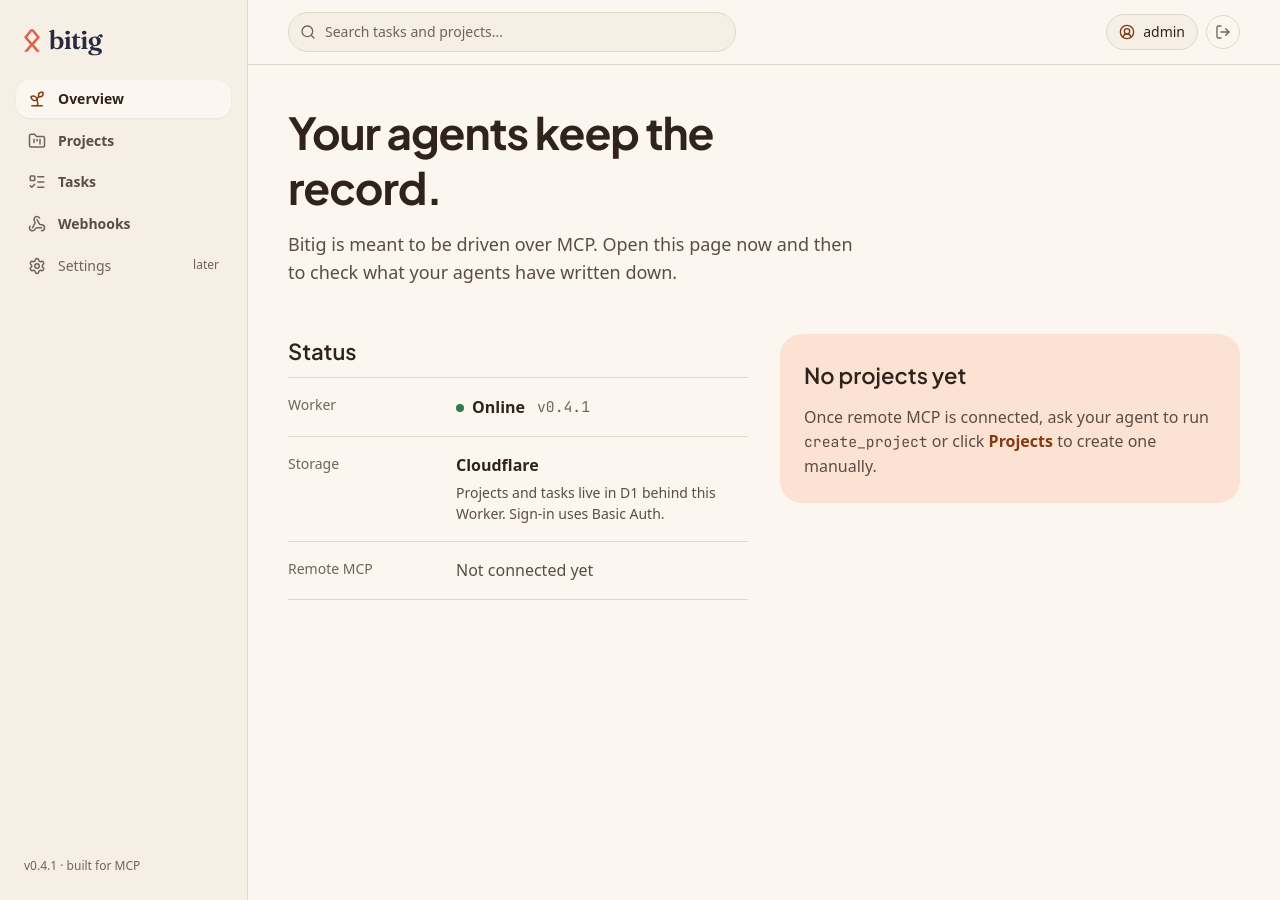
Test: Dashboard Phase 4 Integration › sends the visitor to sign in when the API rejects the session
Click the link "Projects" at (71, 140), box [28,131,114,150]
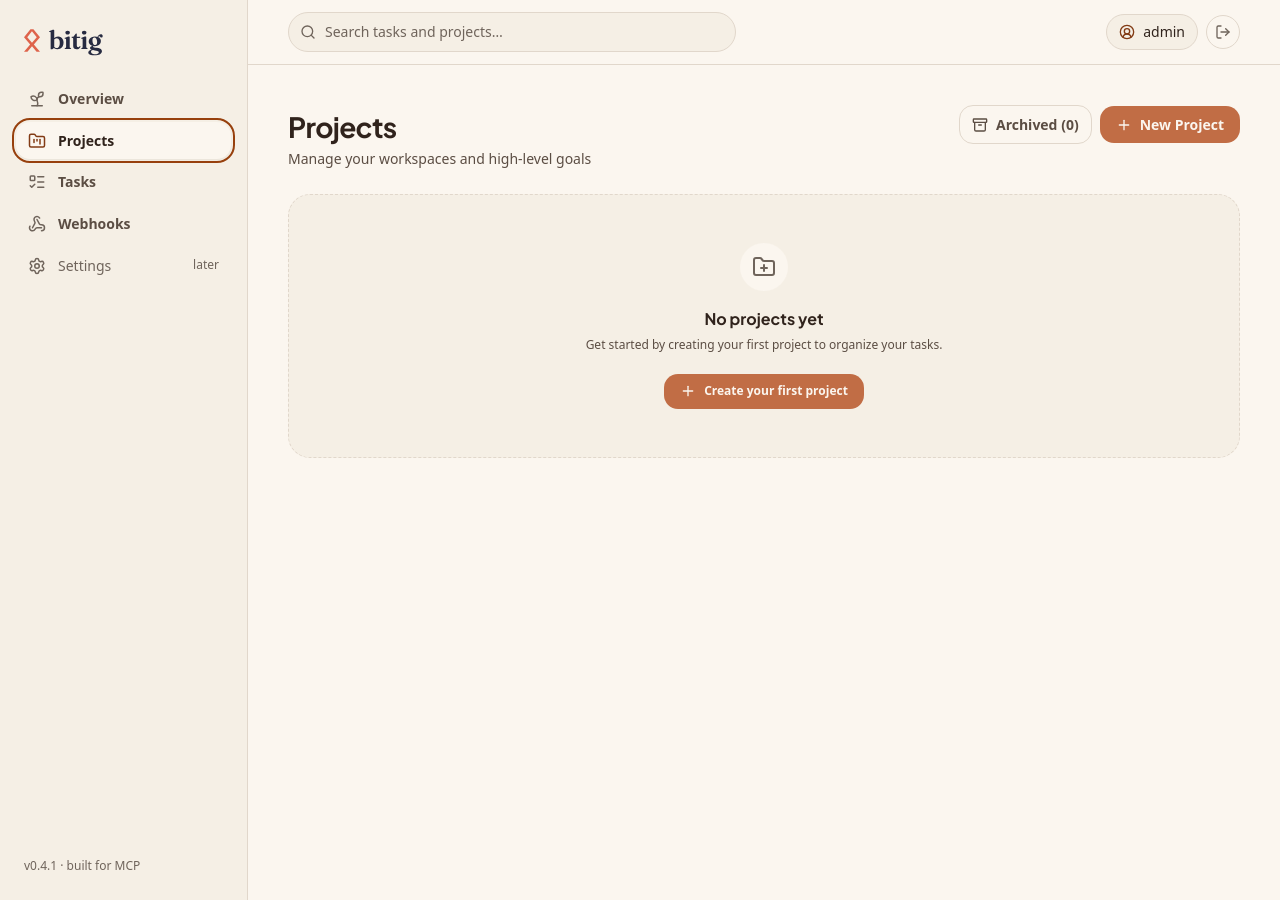
Click the button "New Project" at (1170, 125), box [1100,106,1240,143]
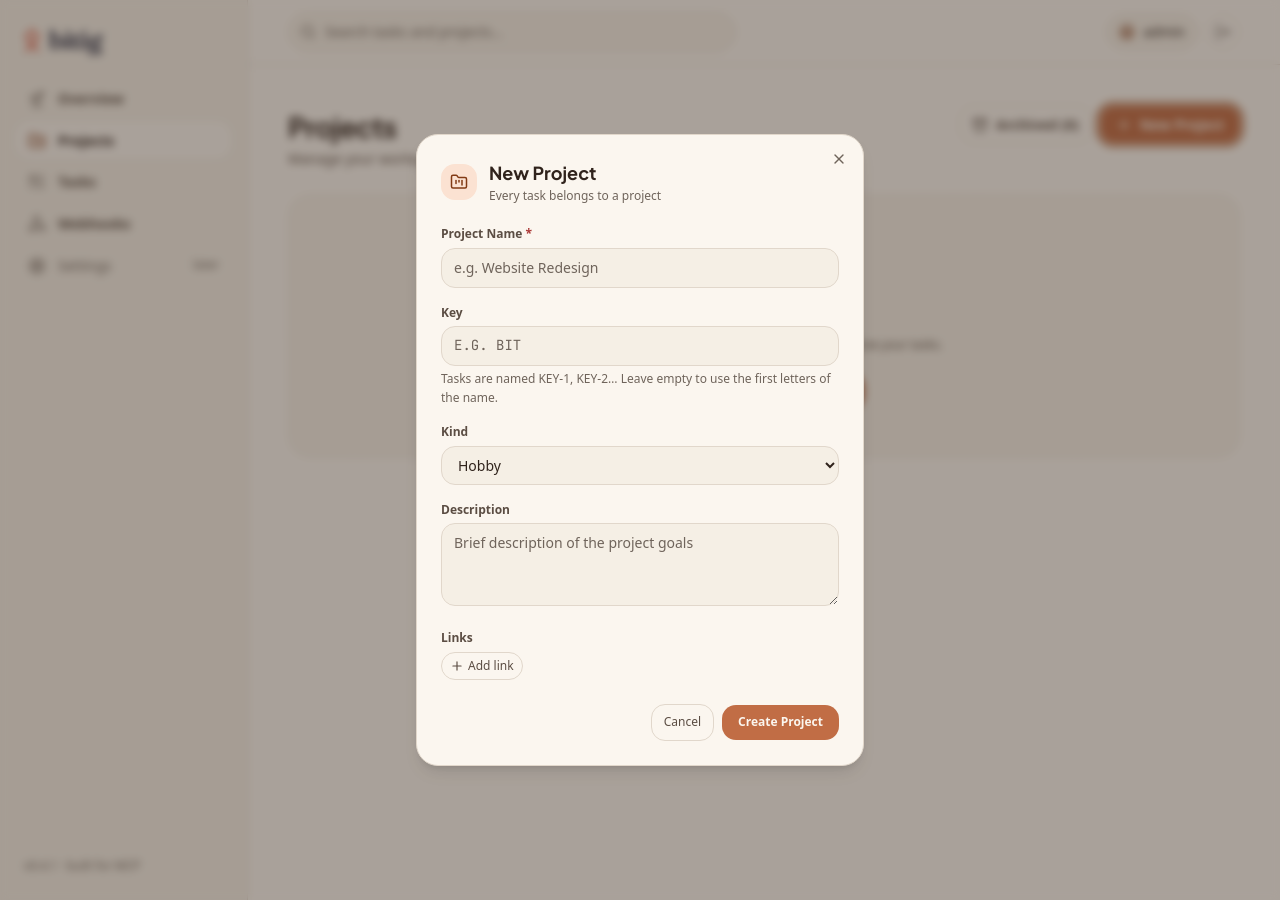
Type "Late project" into the field labelled "Project Name *" at (640, 268), box [441,248,839,288]
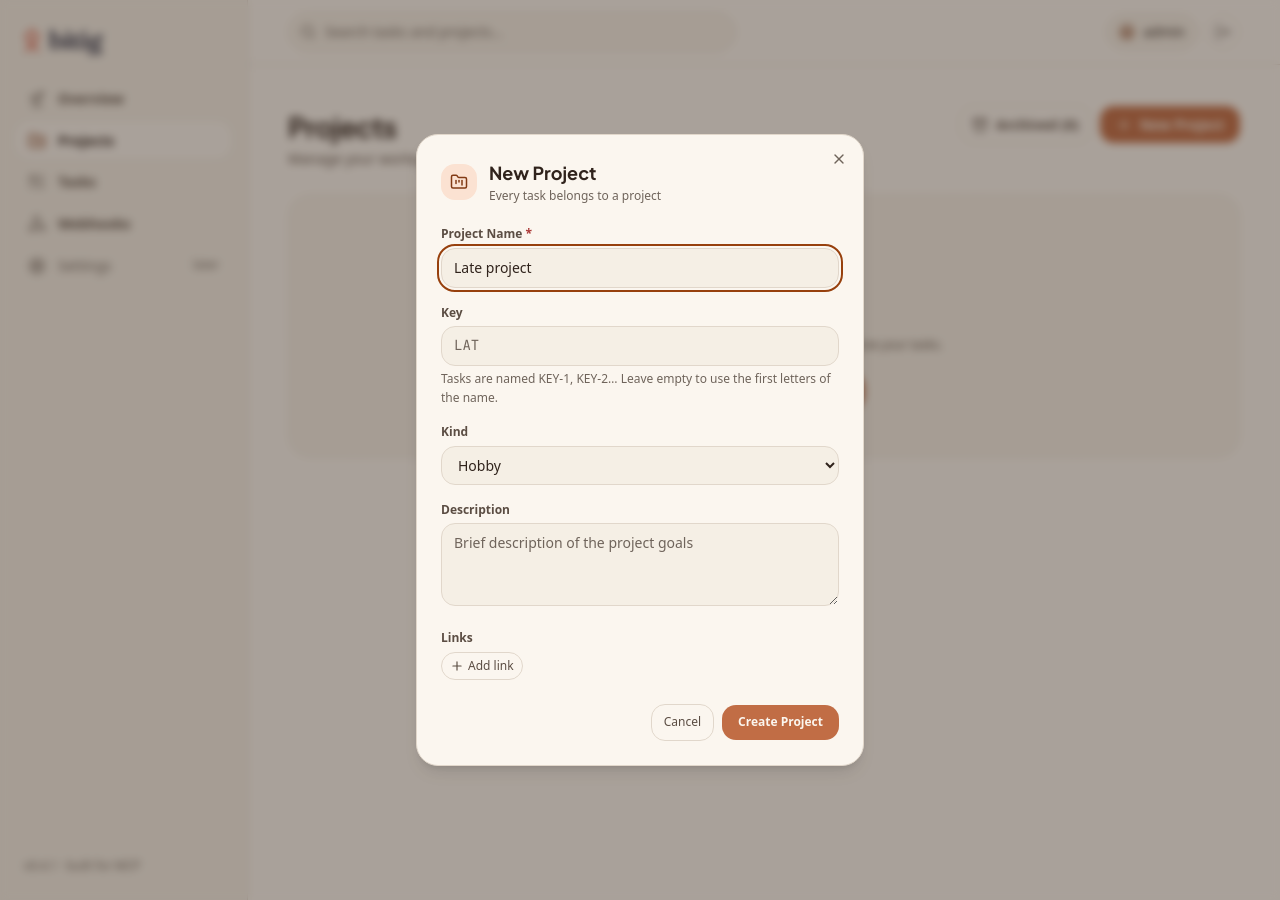
Click the button "Create Project" at (781, 723), box [722,705,839,740]
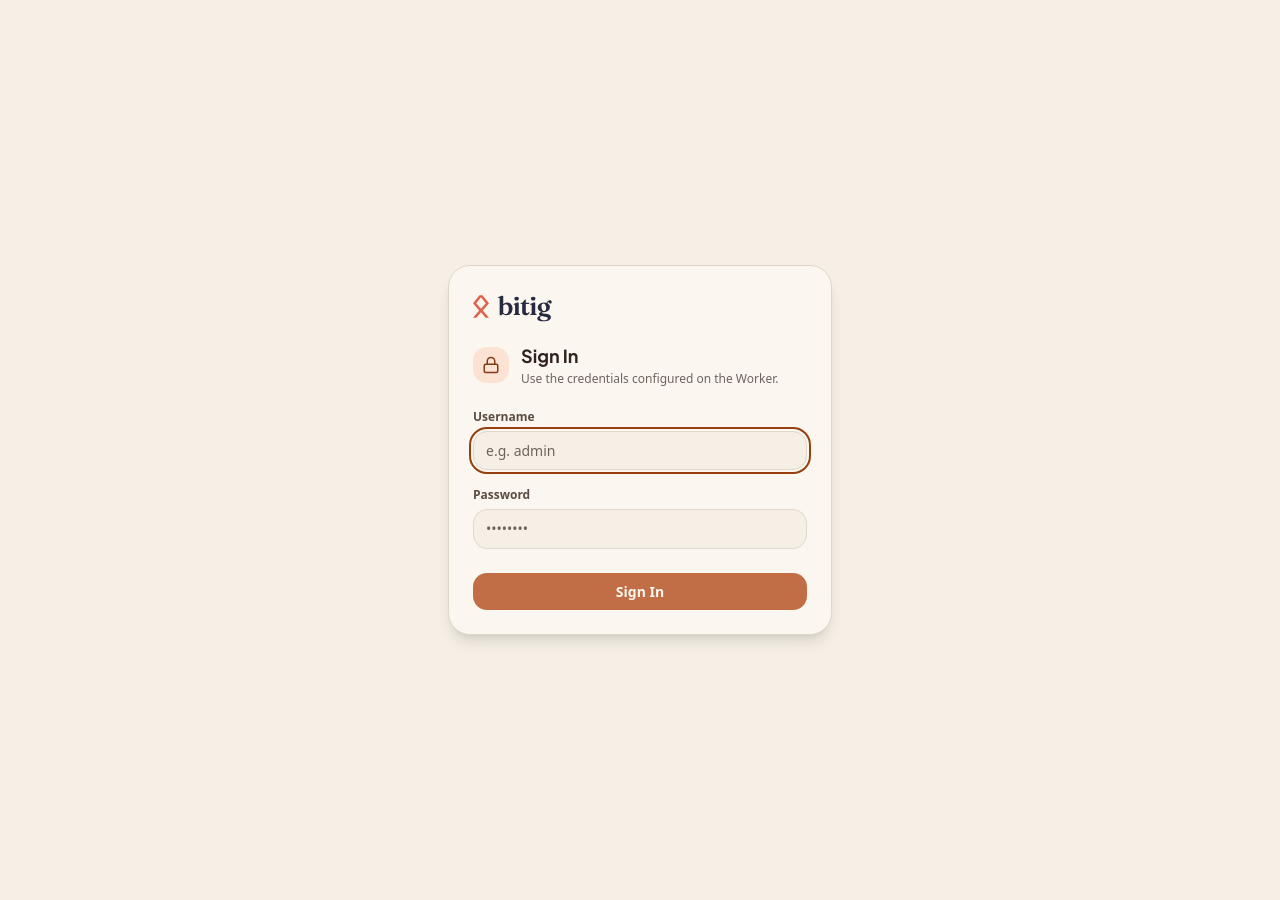
Expected: the heading "Sign In" is shown, [521,344,578,367]
